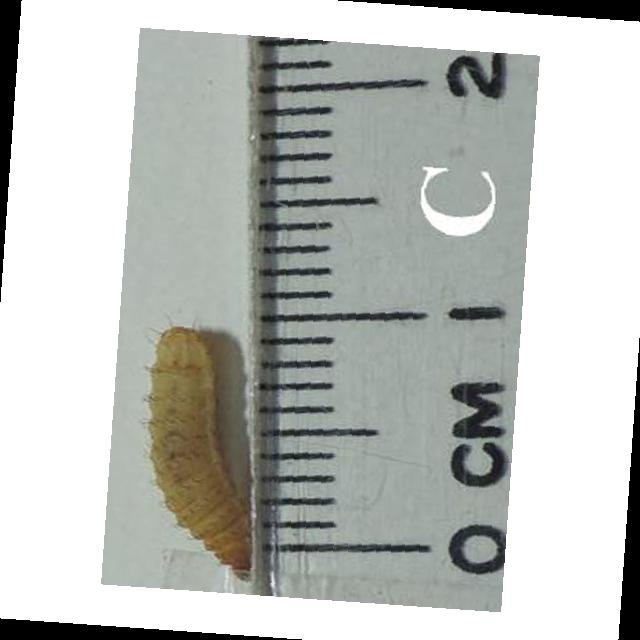Maggot: (150, 324, 255, 577)
